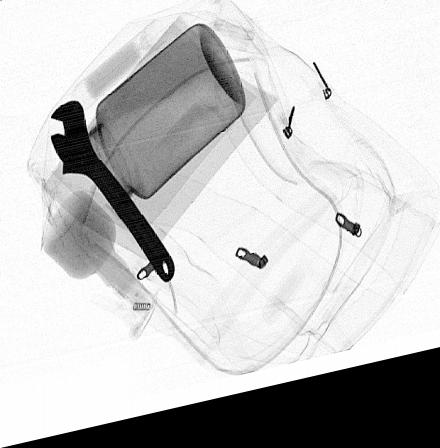Wrench: (49, 102, 176, 292)
